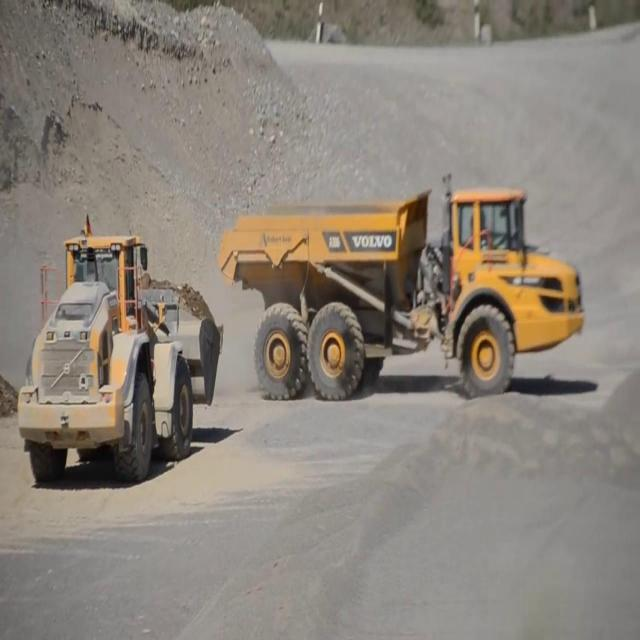Dump Truck: (218, 185, 586, 404)
Loader: (17, 206, 224, 488)
